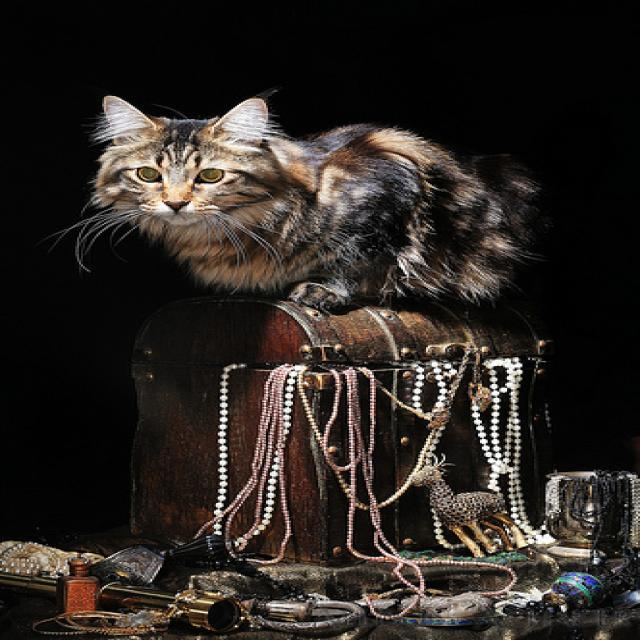Maine_Coon: (80, 86, 289, 229)
